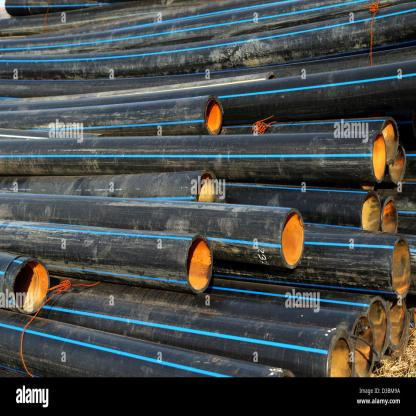PVC: (0, 1, 415, 377)
